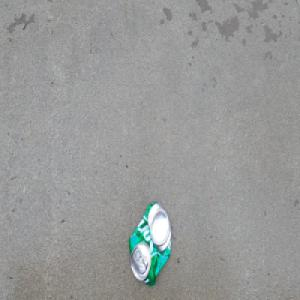SodaCan: (127, 199, 173, 288)
